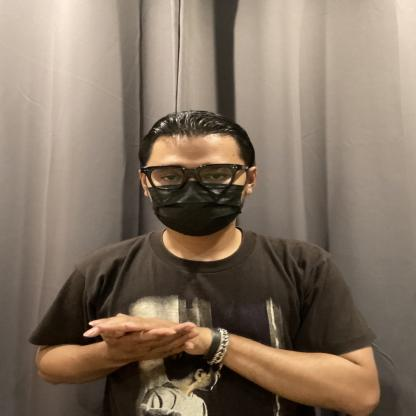Love: (76, 295, 283, 380)
